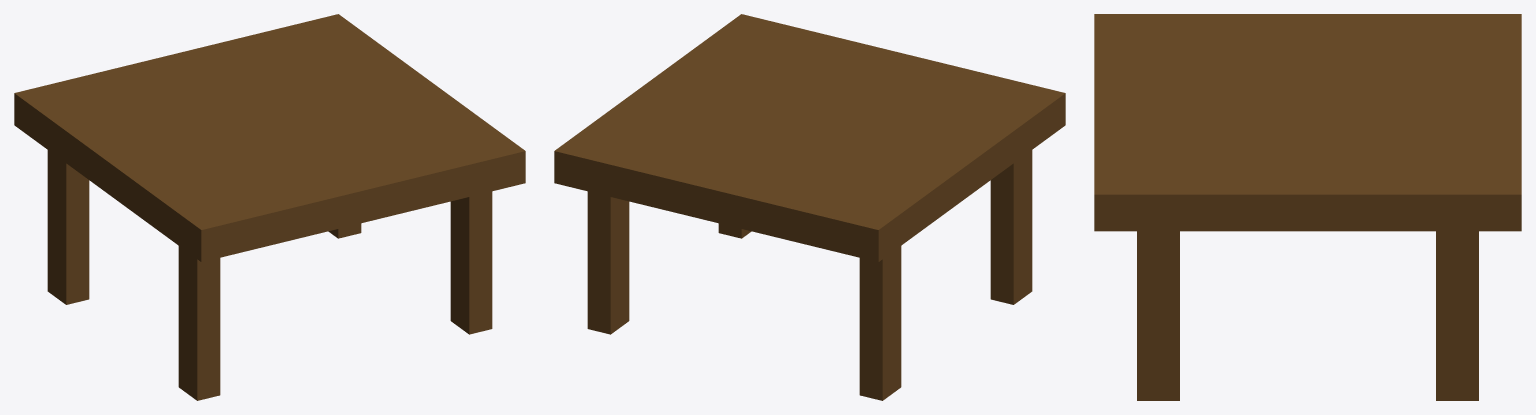
File: Meja.fbx
3 renders of one model, left to right at view 1: azimuth 30°, elevation 25°; view 2: azimuth 150°, elevation 25°; view 3: azimuth 270°, elevation 25°, orthographic. The views are drawn at different scales.
Parts seen in each view (by area): view 1: Cube; view 2: Cube; view 3: Cube.
Part boxes in pixels (x1,y1,x2,y2): Cube: (14,14,525,400); Cube: (554,14,1065,400); Cube: (1094,14,1521,400).
Size of the model in its own units: 956 by 530 by 956.
